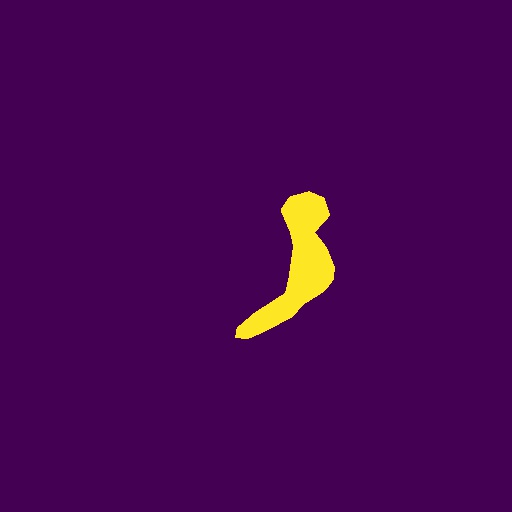Gliomia_tumour: (235, 191, 335, 339)
